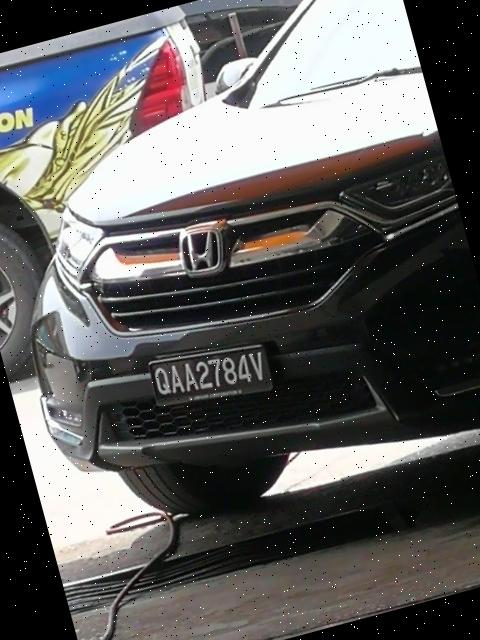License_Plate: (148, 335, 277, 422)
car: (1, 1, 480, 555)
